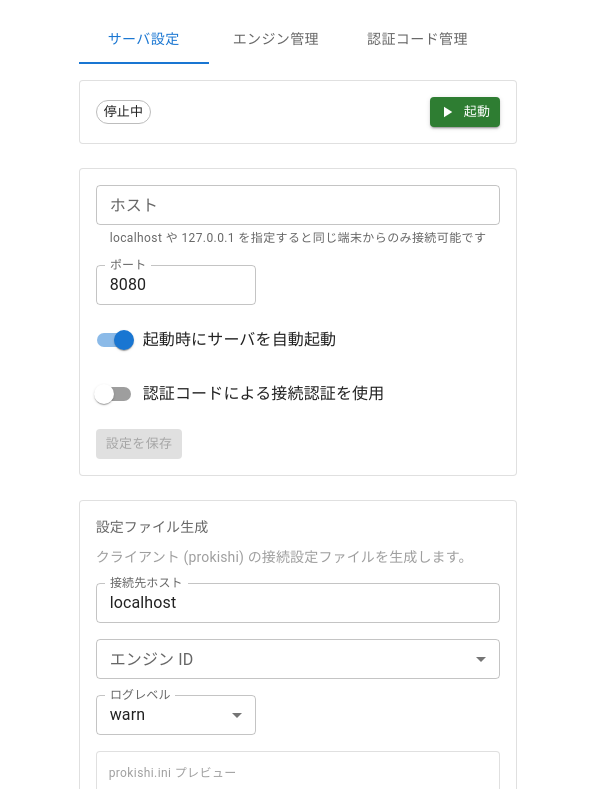
Test: MasterView › generates an auth code and refreshes the code list
Click the tab "認証コード管理". click: click(417, 40)
box: [343,16,492,64]
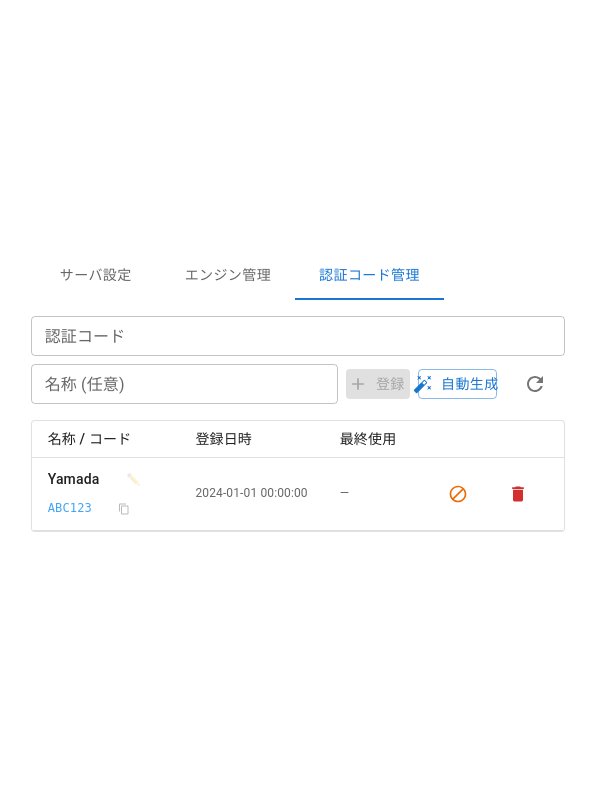
Expected: the text "Yamada" is shown, [48,468,99,490]
Click the button "自動生成". click: click(458, 384)
box: [418,369,497,399]
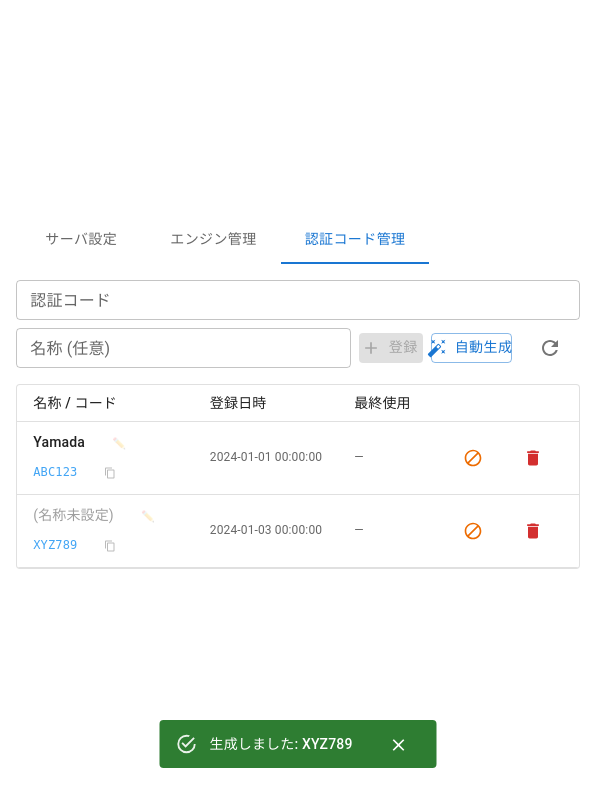
Expected: the text "生成しました: XYZ789" is shown, [210,736,352,752]
Expected: the text "XYZ789" is shown, [33,530,140,560]
